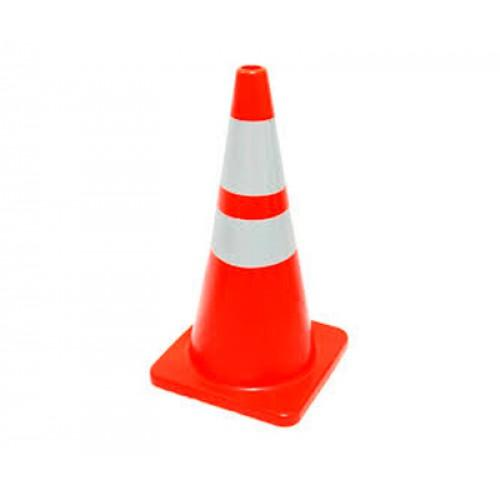traffic_cone: (149, 63, 349, 428)
